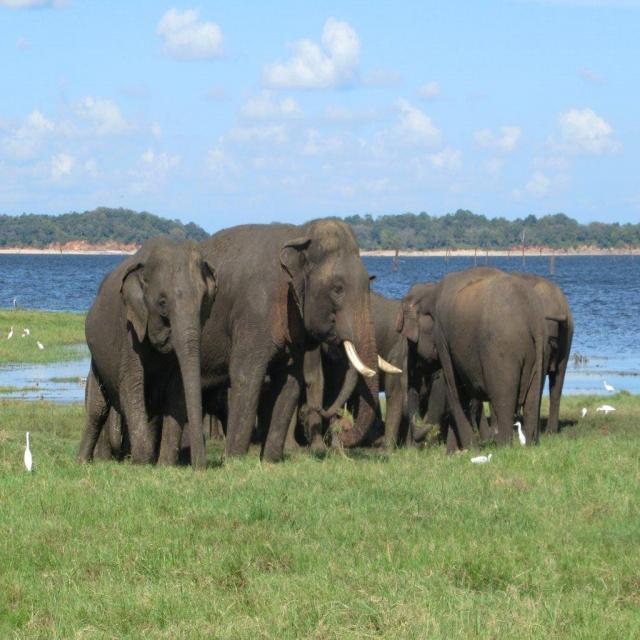Elephant: (83, 223, 382, 467), (78, 232, 219, 470), (395, 266, 544, 454)
